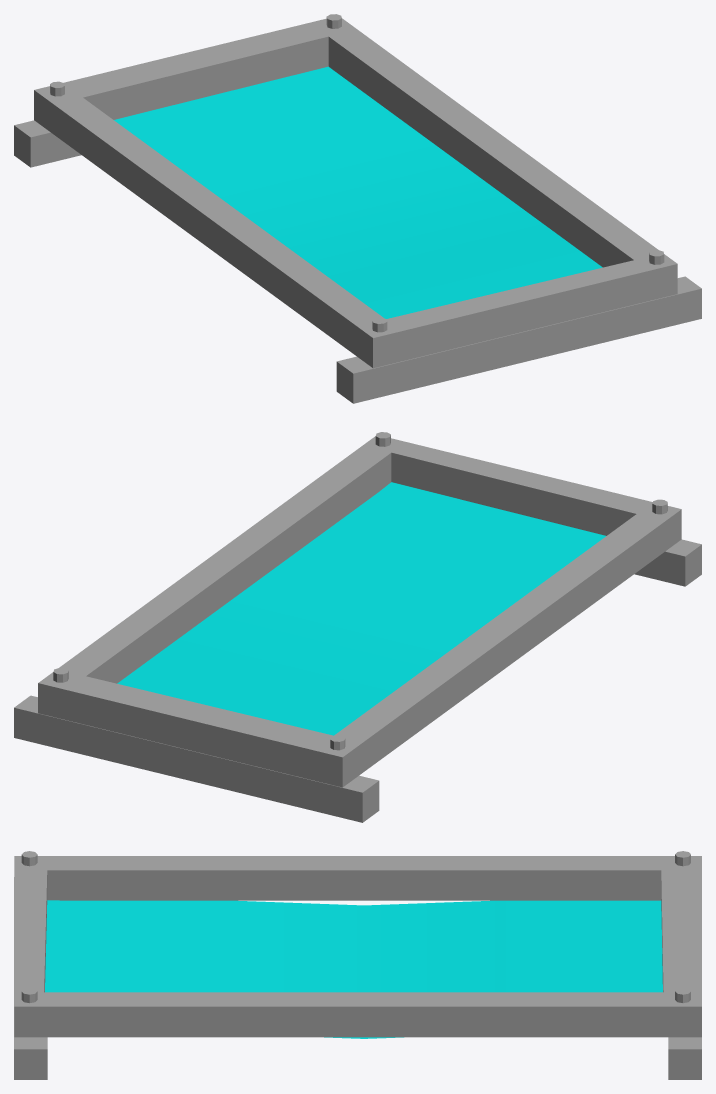
The model's file is Bed.fbx.
3 views of the same model, one above another, from view 1: azimuth 30°, elevation 25°; view 2: azimuth 150°, elevation 25°; view 3: azimuth 270°, elevation 25° (orthographic).
Parts seen in each view (by area): view 1: Bed; view 2: Bed; view 3: Bed.
Boxes of the visible parts, x1,y1,x2,y2 form: Bed: (14, 14, 701, 403); Bed: (14, 432, 701, 822); Bed: (14, 851, 701, 1079).
Size of the model in its own units: 12.08 by 2.29 by 20.36.
